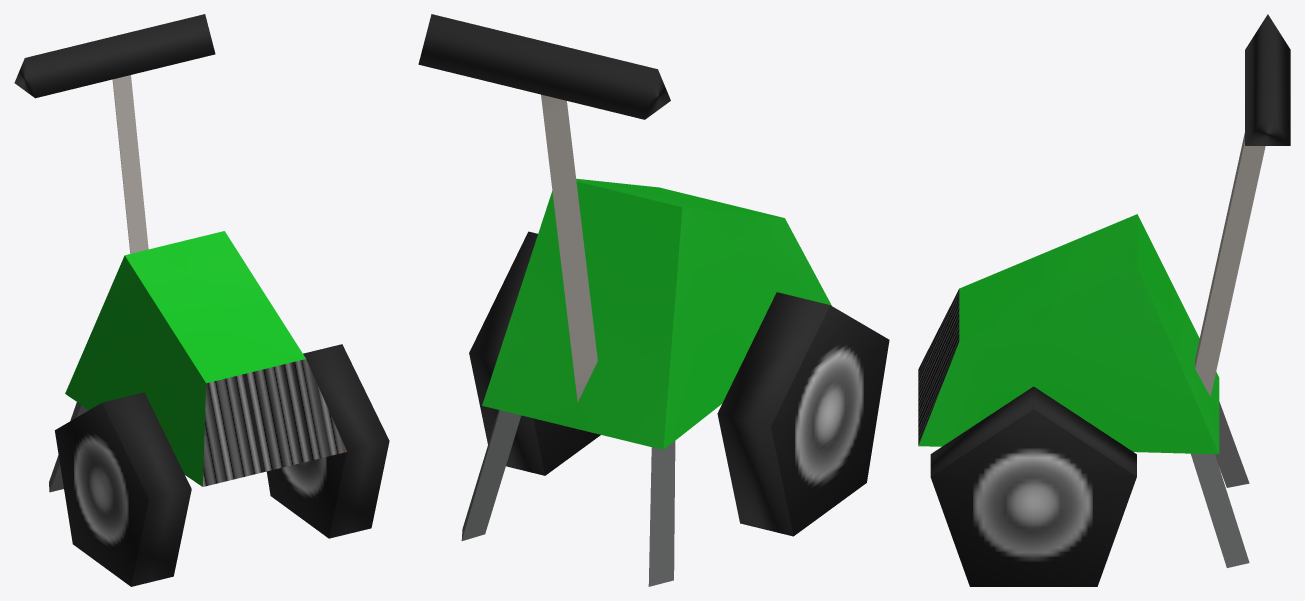
File: Pressure_Washer.fbx
The picture shows the model from 3 angles, left to right: view 1: azimuth 30°, elevation 25°; view 2: azimuth 150°, elevation 25°; view 3: azimuth 270°, elevation 25°; orthographic projection. The views are drawn at different scales.
Parts seen in each view (by area): view 1: Pressure_Washer_1; view 2: Pressure_Washer_1; view 3: Pressure_Washer_1.
Part boxes in pixels (x1,y1,x2,y2): Pressure_Washer_1: (14, 14, 389, 586); Pressure_Washer_1: (418, 14, 889, 586); Pressure_Washer_1: (918, 14, 1290, 586).
Size of the model in its own units: 66.64 by 112 by 81.83.
